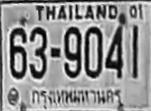0: (84, 26, 102, 77)
1: (132, 25, 139, 77)
3: (29, 26, 46, 78)
4: (104, 25, 122, 78)
6: (9, 27, 26, 77)
9: (64, 26, 80, 77)
BKK: (30, 86, 121, 109)
